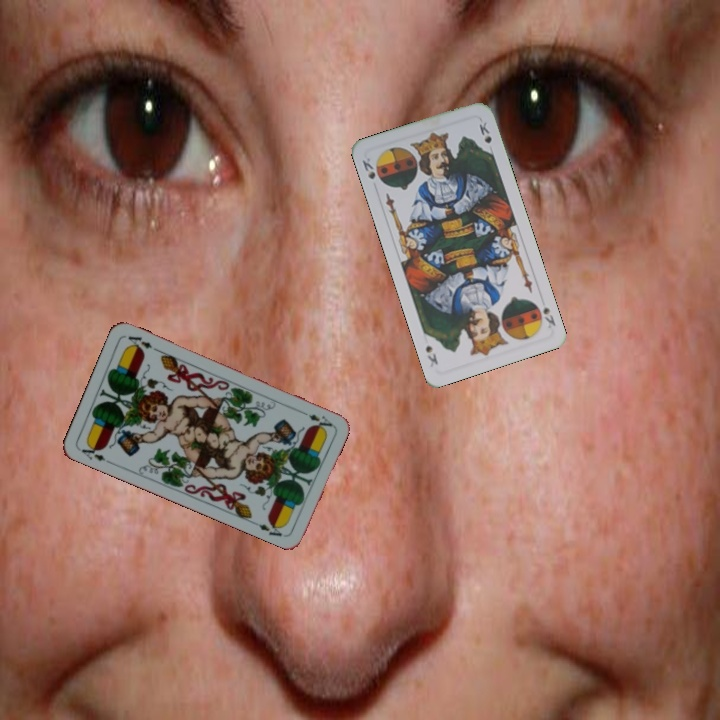EA: (76, 439, 114, 466), (296, 407, 335, 429)
SK: (358, 154, 378, 182), (539, 301, 558, 330)
